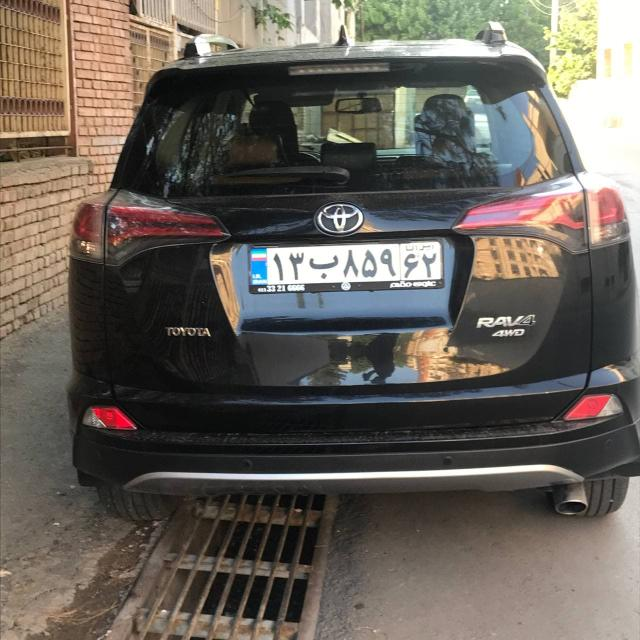Plates: (249, 241, 442, 285)
